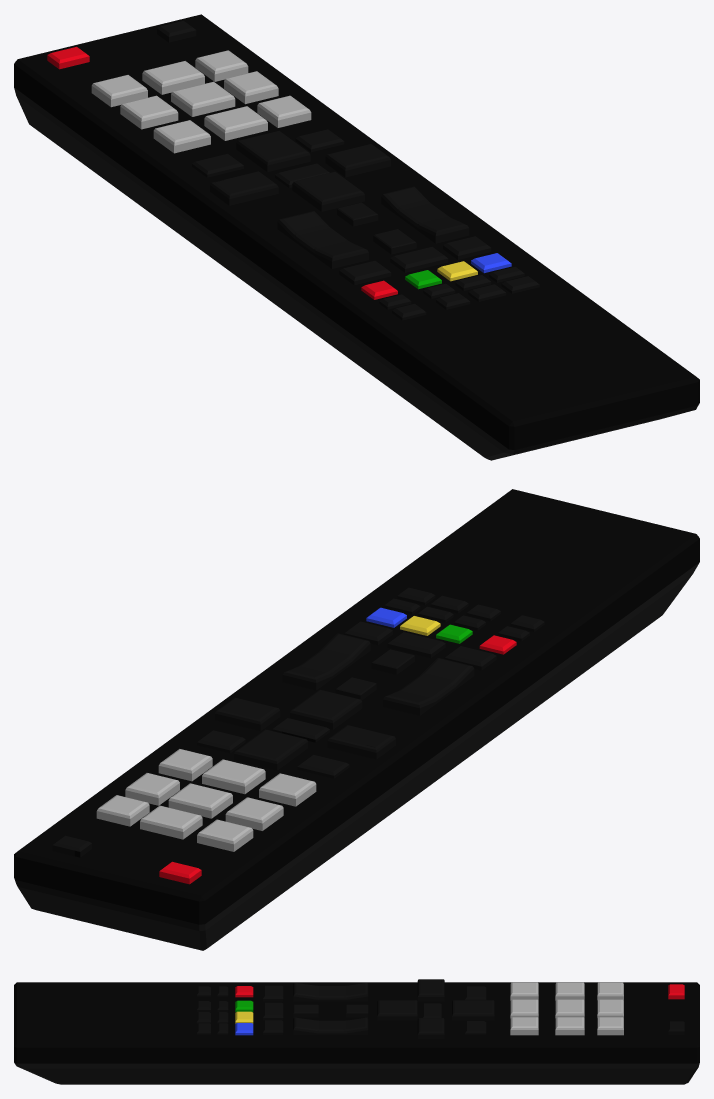
Rendered from TV-Remote-greybox 1.fbx.
3 renders of one model, top to bottom at view 1: azimuth 30°, elevation 25°; view 2: azimuth 150°, elevation 25°; view 3: azimuth 270°, elevation 25°, orthographic. The views are drawn at different scales.
Visible parts, largest first — view 1: Cube; view 2: Cube; view 3: Cube.
Boxes of the visible parts, x1,y1,x2,y2 form: Cube: [14, 14, 699, 460]; Cube: [14, 489, 699, 950]; Cube: [14, 979, 699, 1084].
Bounding box in the file's own units: 247 × 92.26 × 1119.
